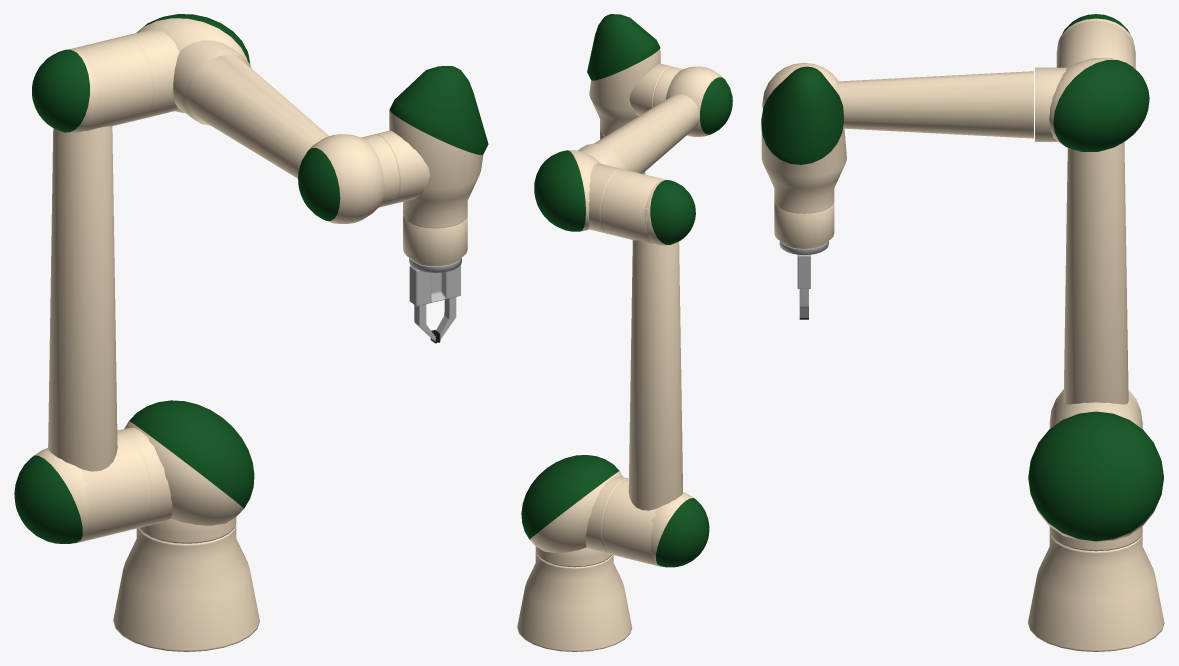
Rendered from robot_yas.fbx.
3 views of the same model, side by side, from view 1: azimuth 30°, elevation 25°; view 2: azimuth 150°, elevation 25°; view 3: azimuth 270°, elevation 25° (orthographic). The views are drawn at different scales.
Visible parts, largest first — view 1: Cylinder.001, RobotBase, Cylinder.006, Sphere.001, Cylinder.003, Sphere.005, Sphere.002, Cylinder.009, Cylinder.010, Sphere.003, Cylinder.013, Cylinder (+8 smaller); view 2: Cylinder.001, RobotBase, Sphere.001, Cylinder.006, Cylinder.003, Sphere.004, Sphere.002, Cylinder.009, Cylinder.010, Sphere.005, Sphere.003, Cylinder.002 (+5 smaller); view 3: Cylinder.001, Sphere.001, RobotBase, Cylinder.003, Cylinder.006, Sphere.004, Cylinder.013, Cylinder.010, Cylinder.011, Cylinder.009, Cylinder.004, Cylinder (+2 smaller).
Boxes of the visible parts, x1=… form: Cylinder.001: x1=48, y1=126, x2=117, y2=471; RobotBase: x1=113, y1=523, x2=259, y2=651; Cylinder.006: x1=389, y1=66, x2=488, y2=228; Sphere.001: x1=124, y1=400, x2=254, y2=525; Cylinder.003: x1=188, y1=55, x2=328, y2=178; Sphere.005: x1=298, y1=134, x2=384, y2=223; Sphere.002: x1=14, y1=448, x2=88, y2=543; Cylinder.009: x1=74, y1=431, x2=151, y2=543; Cylinder.010: x1=69, y1=36, x2=153, y2=130; Sphere.003: x1=32, y1=49, x2=97, y2=133; Cylinder.013: x1=403, y1=215, x2=467, y2=266; Cylinder: x1=122, y1=30, x2=179, y2=118; Cylinder.001: x1=628, y1=240, x2=682, y2=510; RobotBase: x1=517, y1=551, x2=632, y2=651; Sphere.001: x1=521, y1=455, x2=623, y2=552; Cylinder.006: x1=587, y1=14, x2=660, y2=136; Cylinder.003: x1=594, y1=94, x2=699, y2=173; Sphere.004: x1=534, y1=150, x2=600, y2=231; Sphere.002: x1=651, y1=492, x2=709, y2=567; Cylinder.009: x1=602, y1=479, x2=660, y2=566; Cylinder.010: x1=600, y1=169, x2=666, y2=243; Sphere.005: x1=665, y1=66, x2=732, y2=136; Sphere.003: x1=644, y1=180, x2=695, y2=245; Cylinder.002: x1=585, y1=476, x2=628, y2=554; Cylinder.001: x1=1063, y1=142, x2=1128, y2=404; Sphere.001: x1=1028, y1=411, x2=1163, y2=541; RobotBase: x1=1028, y1=532, x2=1164, y2=651; Cylinder.003: x1=839, y1=71, x2=1033, y2=138; Cylinder.006: x1=761, y1=66, x2=846, y2=213; Sphere.004: x1=1049, y1=58, x2=1149, y2=151; Cylinder.013: x1=774, y1=201, x2=834, y2=248; Cylinder.010: x1=1056, y1=20, x2=1135, y2=68; Cylinder.011: x1=1035, y1=67, x2=1067, y2=141; Cylinder.009: x1=1049, y1=393, x2=1142, y2=428; Cylinder.004: x1=1049, y1=526, x2=1142, y2=551; Cylinder: x1=1059, y1=44, x2=1131, y2=67.
Bounding box in the file's own units: 55.48 × 112 × 68.69.
